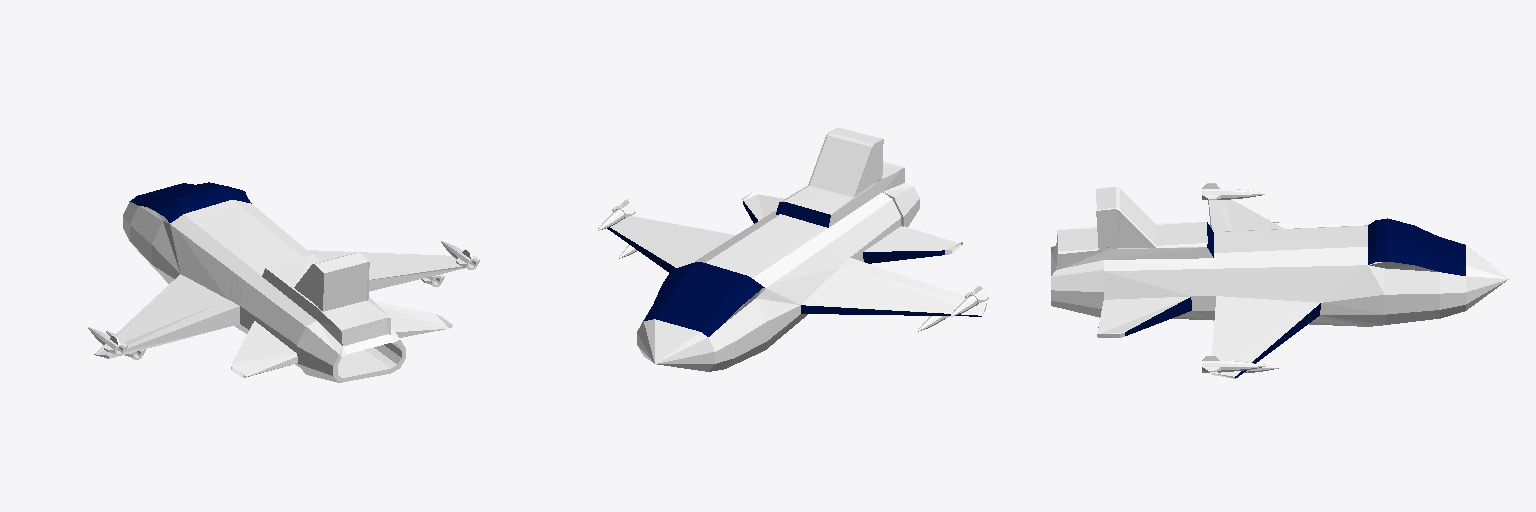
The picture shows the model from 3 angles: view 1: azimuth 30°, elevation 25°; view 2: azimuth 150°, elevation 25°; view 3: azimuth 270°, elevation 25°; orthographic projection.
Visible parts, largest first — view 1: Cylinder; view 2: Cylinder; view 3: Cylinder.
Boxes of the visible parts, x1,y1,x2,y2 form: Cylinder: [88, 182, 479, 382]; Cylinder: [597, 128, 988, 371]; Cylinder: [1051, 183, 1508, 378].
Bounding box in the file's own units: 8.45 × 2.49 × 8.91.
1 materials, 1 textured.